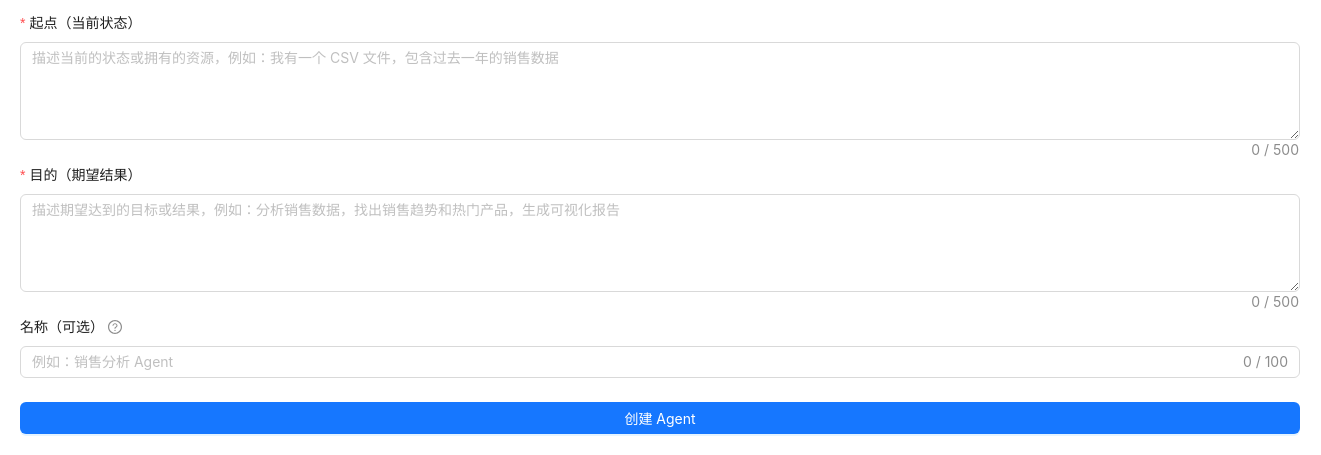
Scenario: CreateAgentForm › 当 start 字段太短时，应该显示验证错误
输入太短的内容（少于 10 个字符）
Type "太短了" into the text box labelled "起点（当前状态）" at {"x": 660, "y": 91}, box [21,43,1299,139]
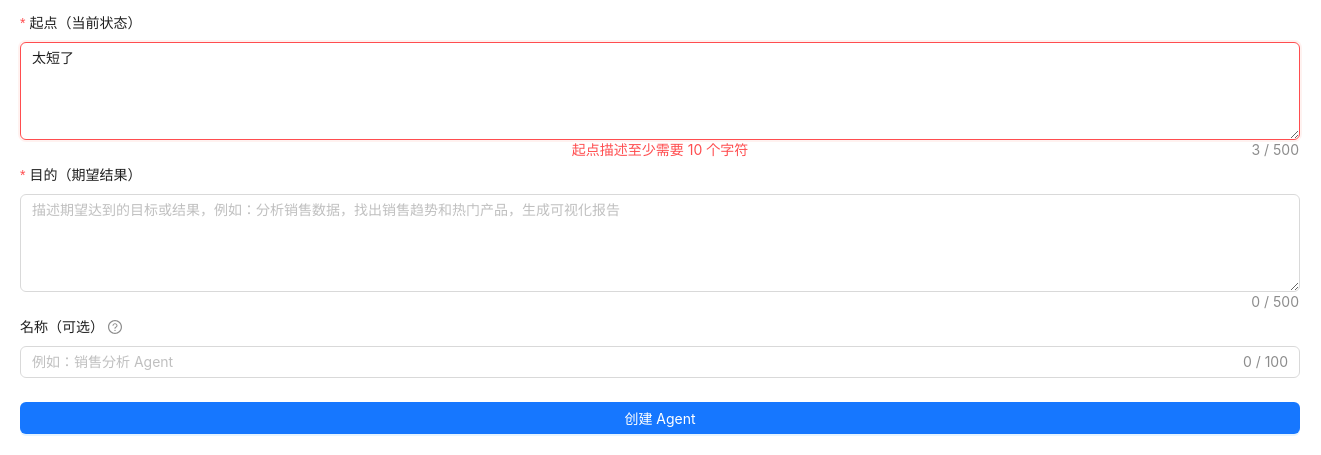
Click the button "创建 Agent" at {"x": 660, "y": 418}, box [20,402,1300,434]
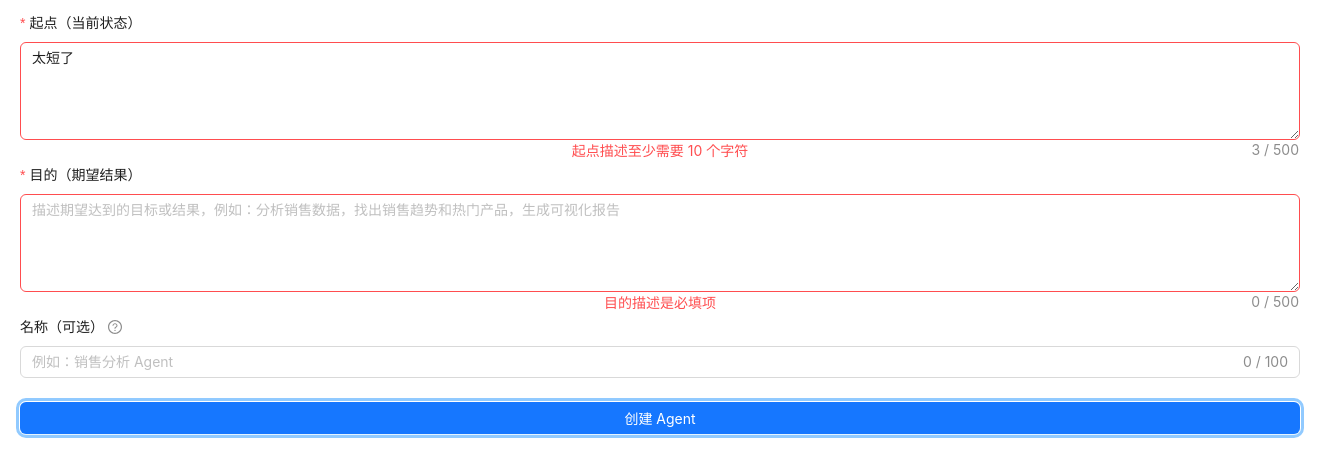
Expected: the text "起点描述至少需要 10 个字符" is shown, [572,142,748,159]
